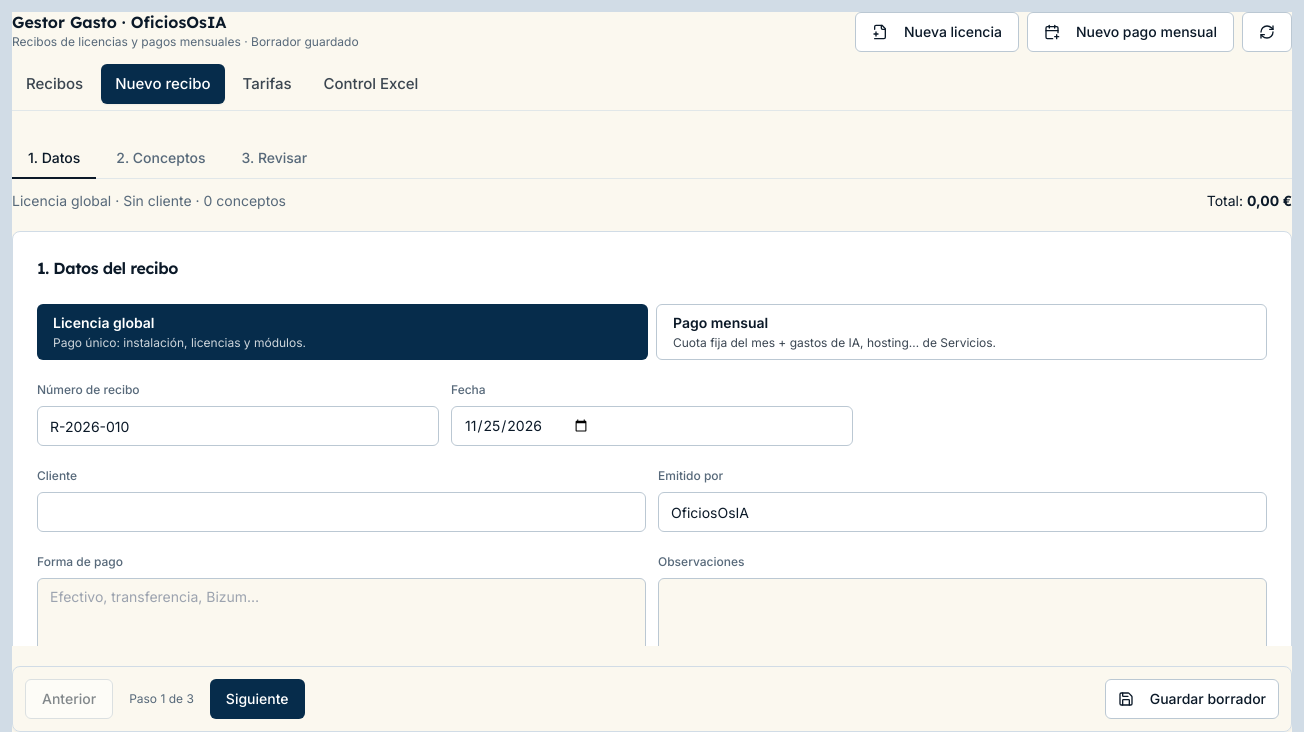
Test: pago mensual › «Descuento a todos» pone el mismo descuento a todos los servicios sin tocar la cuota
This screenshot has width=1304, height=732.
Click the button "Nuevo pago mensual". click: (1130, 32)
box: [1027,12,1234,52]
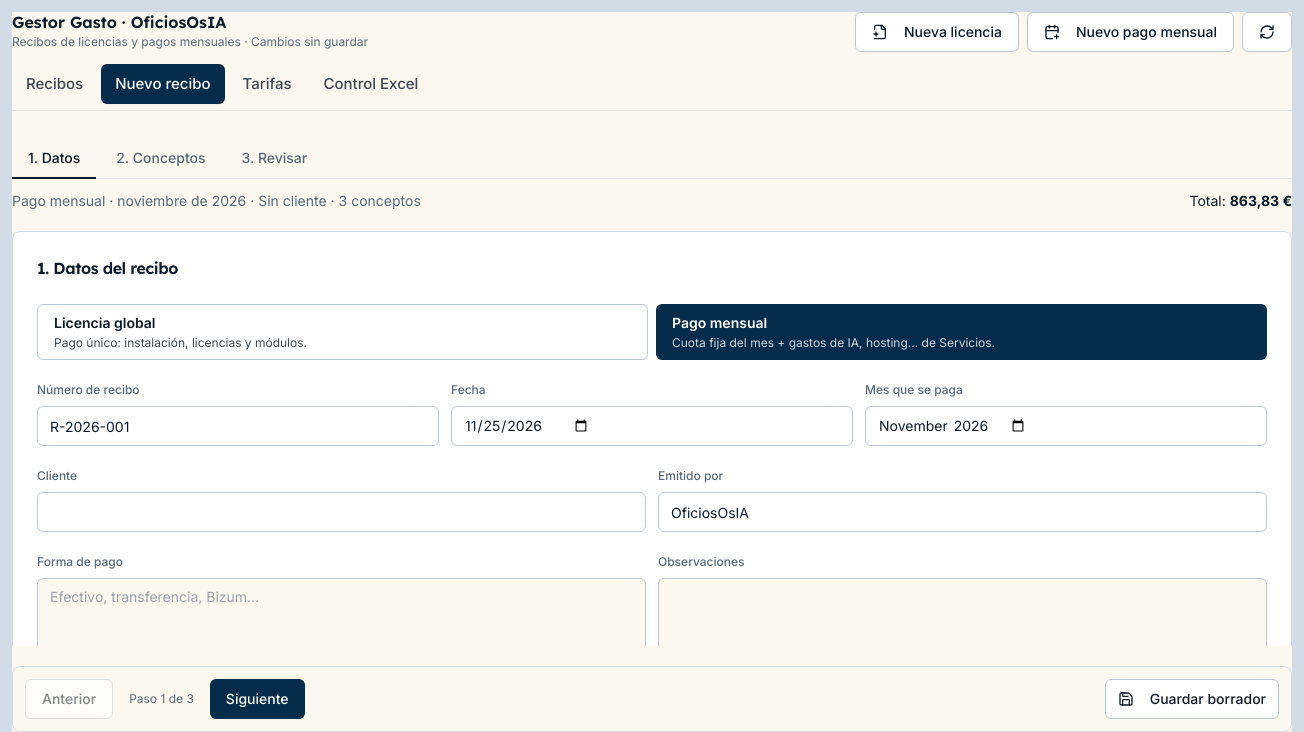
Check: the field labelled "Mes que se paga" holds "2026-11", box [865,406,1267,446]
Click the button "2. Conceptos". click: (161, 159)
box: [100,139,222,179]
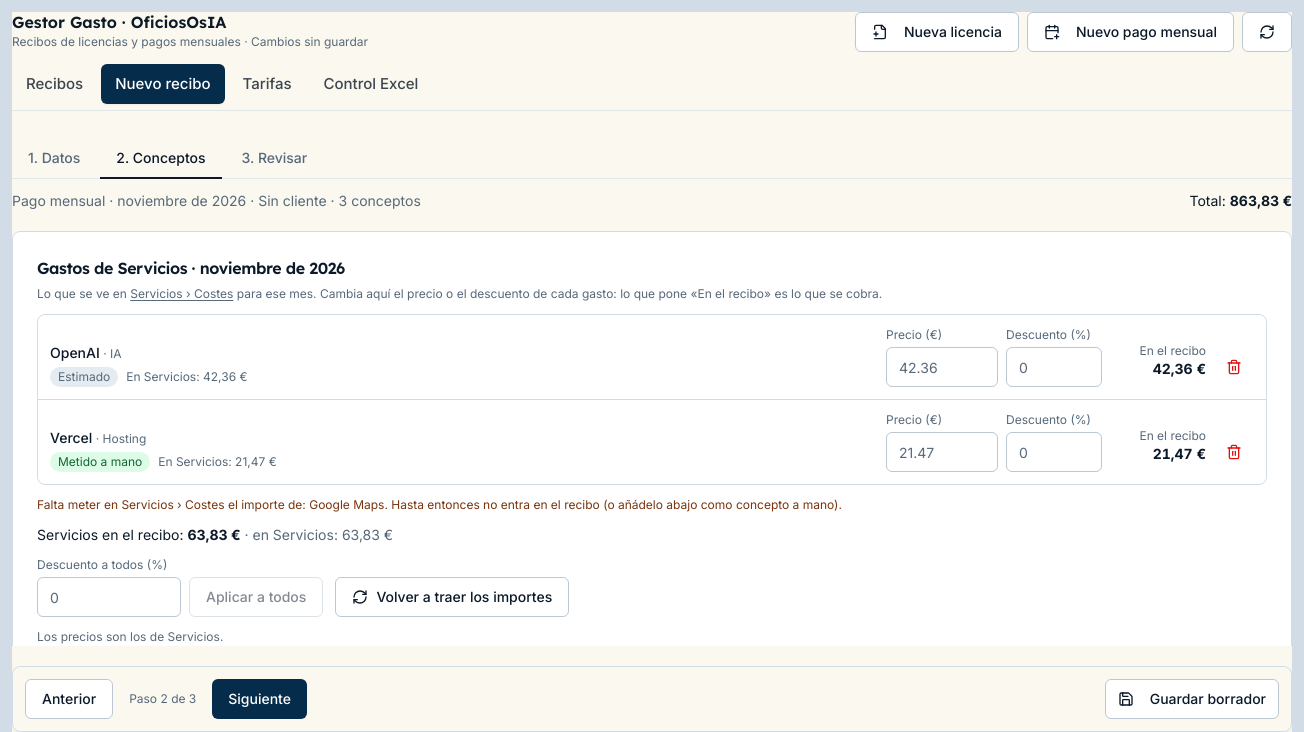
Check: the button "Aplicar a todos" is disabled, box [189,577,323,617]
Type "100" into the number field named "Descuento a todos los servicios (%)". click: (109, 597)
box: [37,577,181,617]
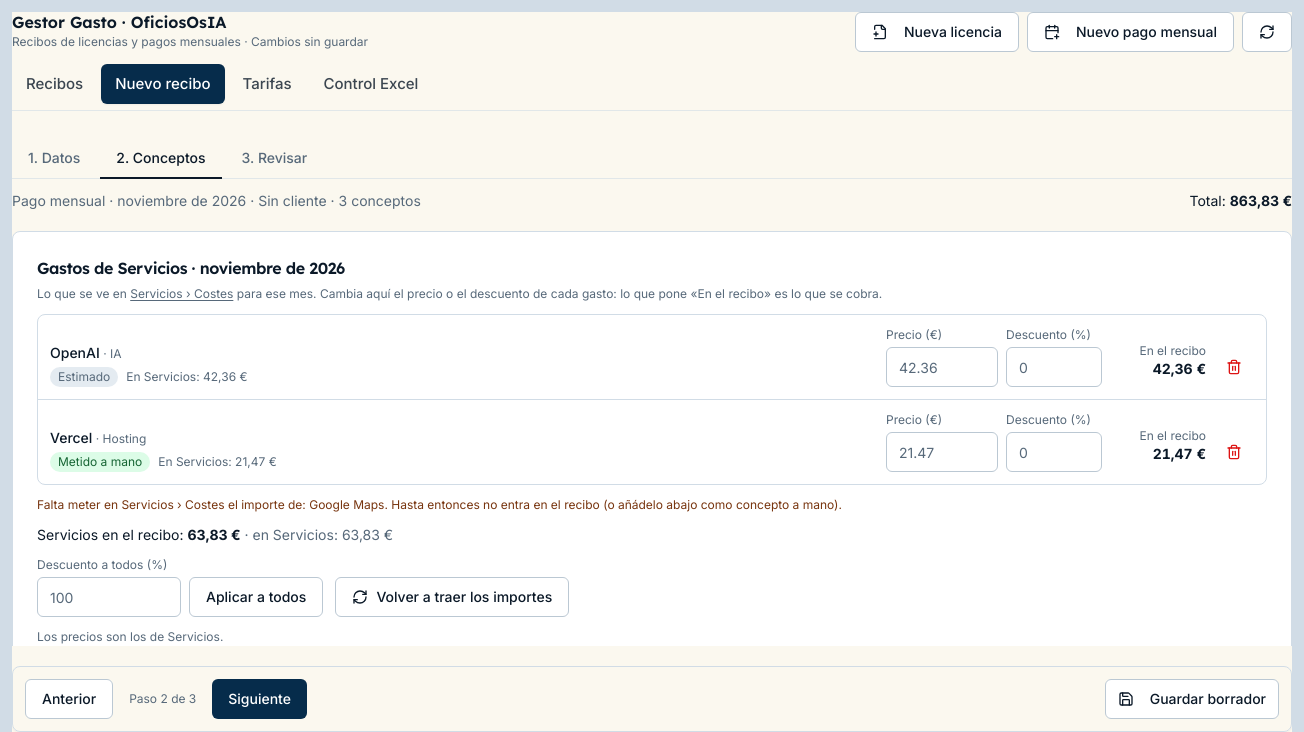
Click the button "Aplicar a todos". click: (256, 597)
box: [189,577,323,617]
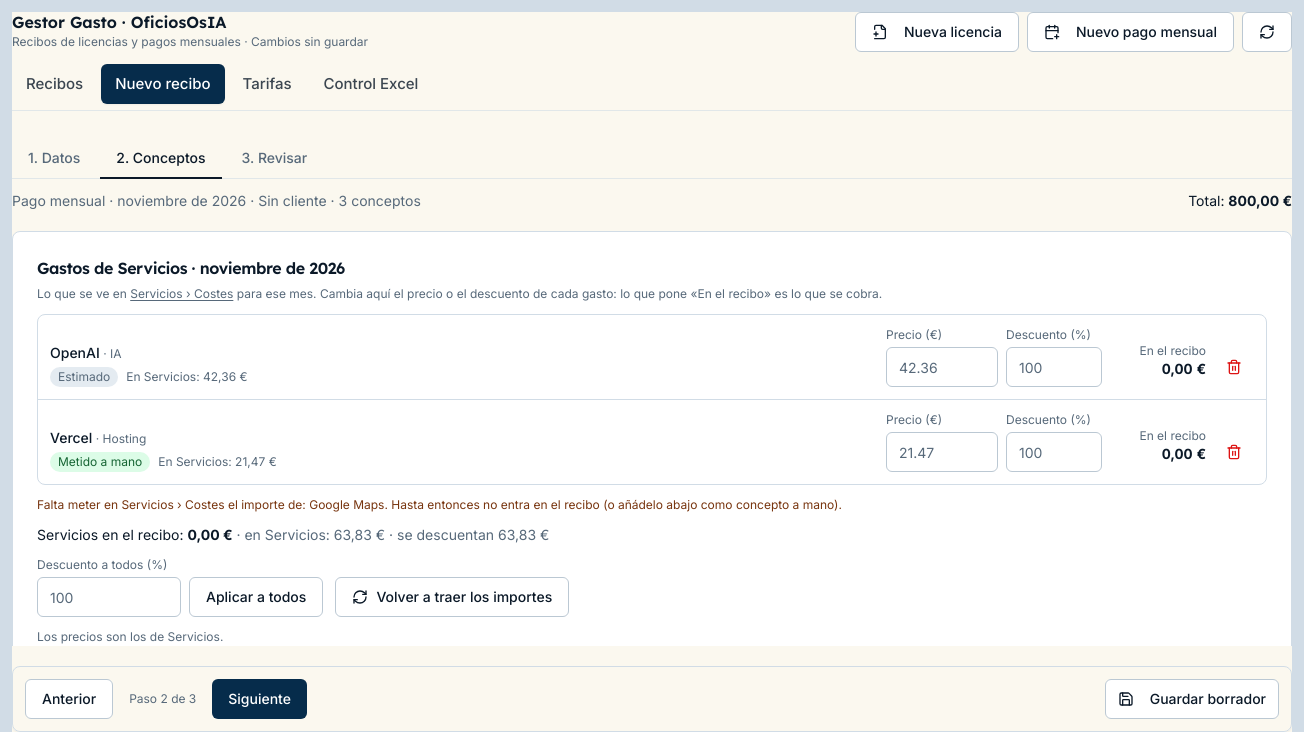
Check: the number field named "Descuento de OpenAI (%)" holds "100", box [1006,347,1102,387]
Check: the text "Total:" shows "800,00", box [1228,192,1292,209]
Replace the text in the number field named "Descuento a todos los servicios (%)" with "150". click: (109, 597)
box: [37,577,181,617]
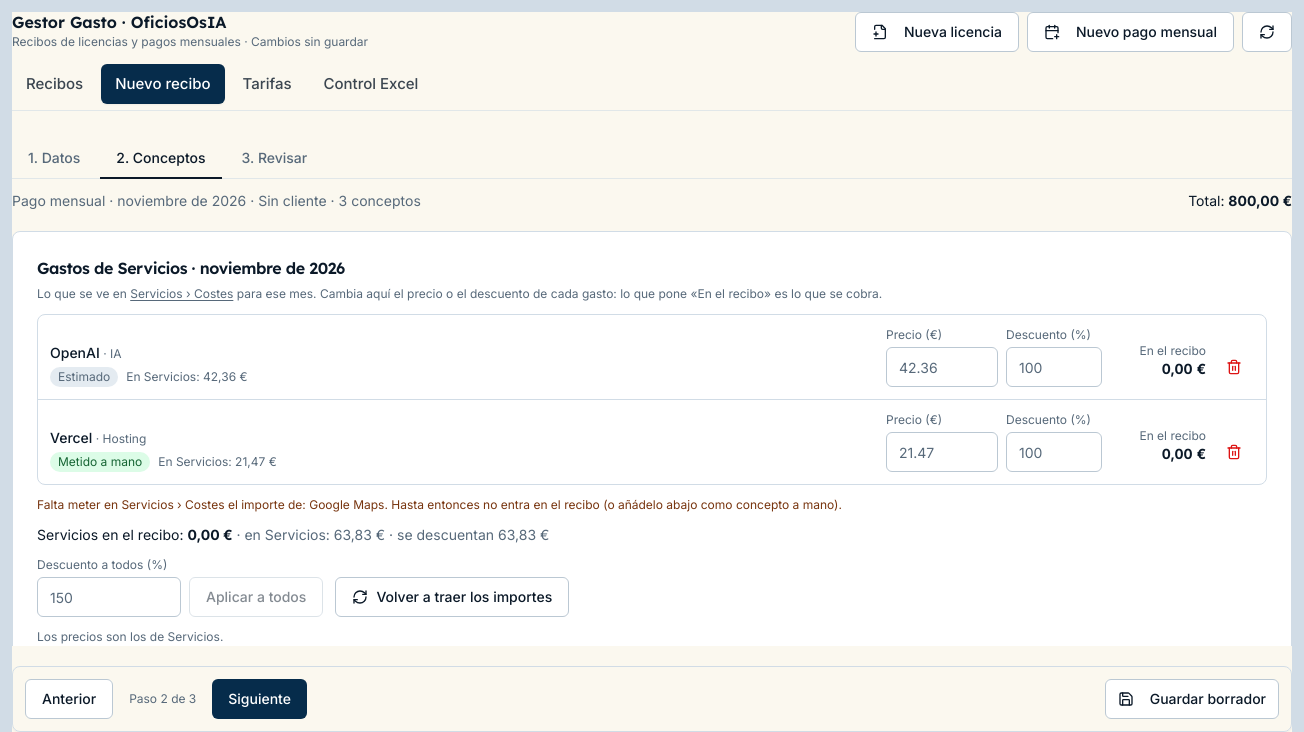
Check: the button "Aplicar a todos" is disabled, box [189,577,323,617]
